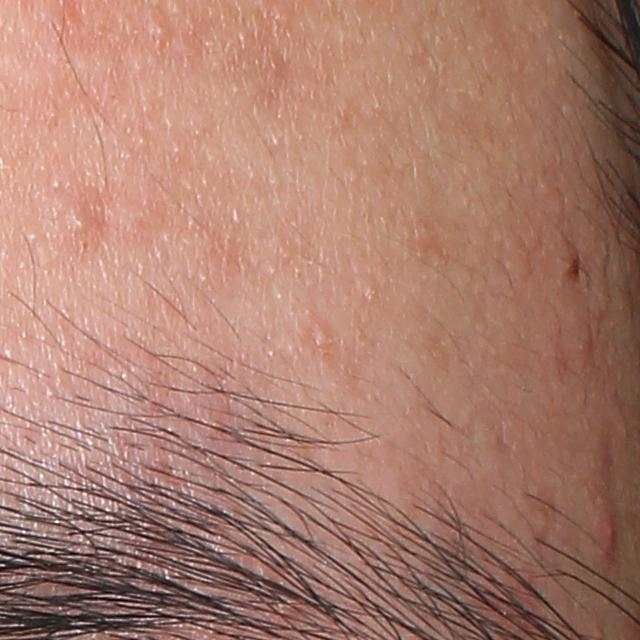comedo: (146, 19, 173, 43), (313, 328, 332, 355), (362, 281, 381, 304)
nevus: (565, 251, 583, 284)
papule: (592, 515, 621, 562)
